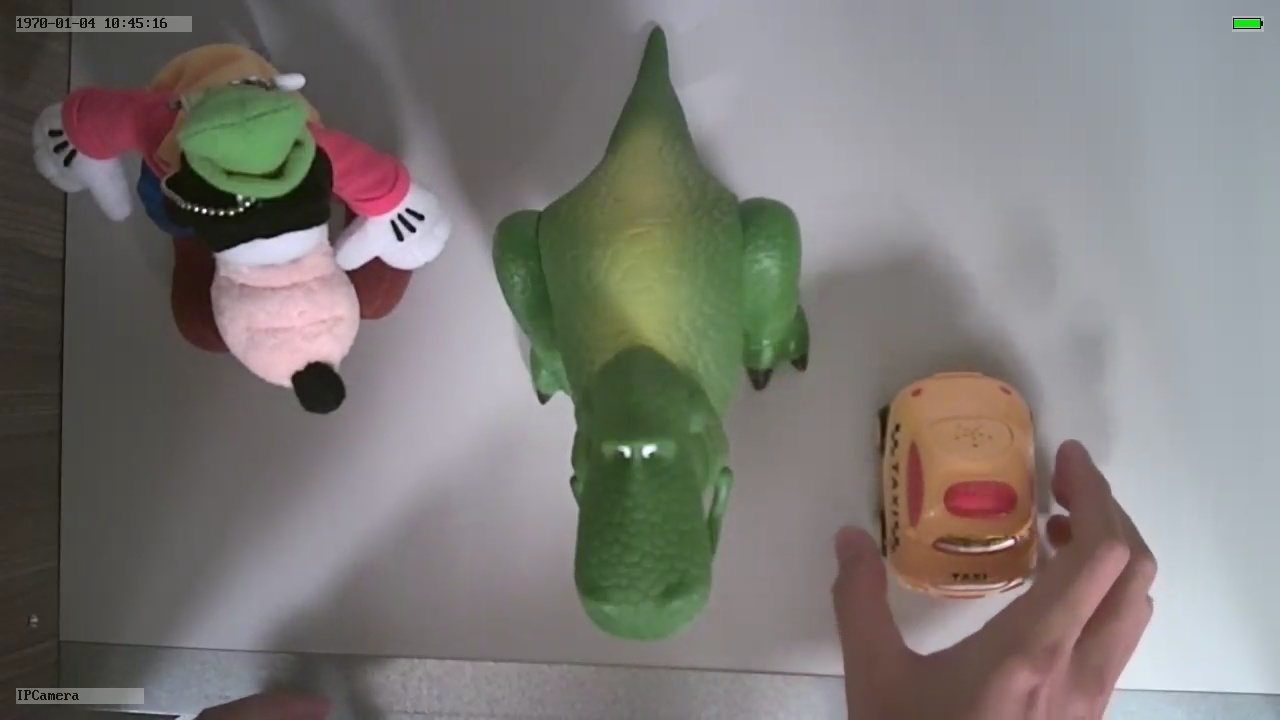goofy: (31, 38, 456, 413)
rex: (491, 110, 812, 644)
